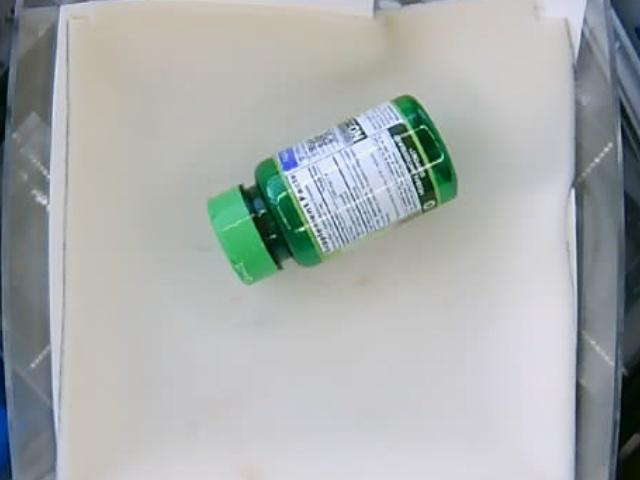Bottle: (209, 92, 460, 294)
